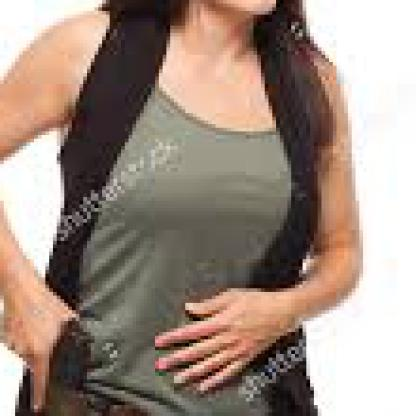gun: (0, 296, 102, 412)
